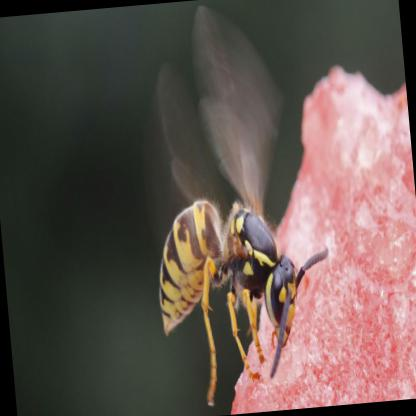fruit fly: (159, 202, 296, 380)
